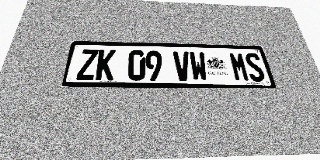0: (127, 50, 145, 81)
9: (146, 50, 163, 81)
K: (95, 49, 116, 80)
M: (228, 52, 251, 81)
S: (244, 53, 267, 82)
V: (173, 51, 192, 81)
W: (189, 51, 209, 81)
Z: (76, 49, 99, 80)
